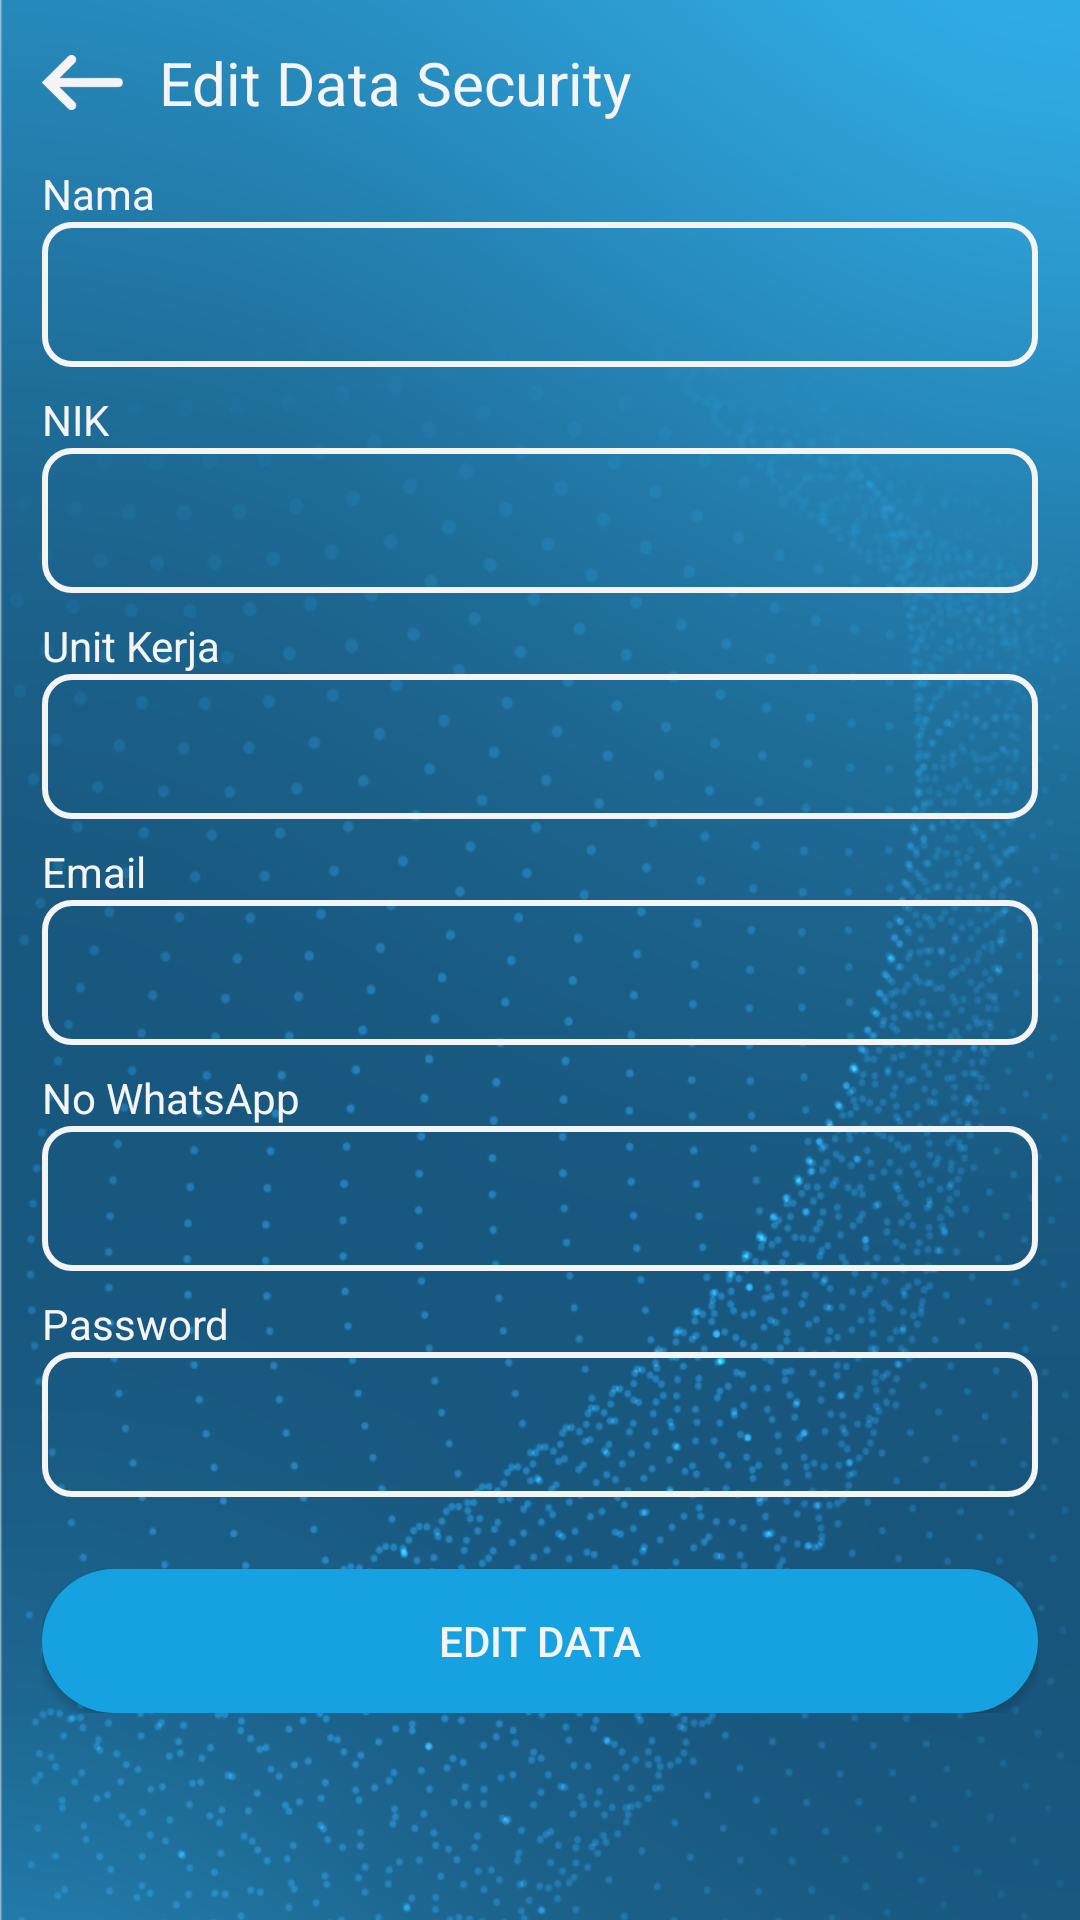

Point at icon controls on the screen. Image size 1080w x 1920h, points as [x,y].
back: [82,82]
